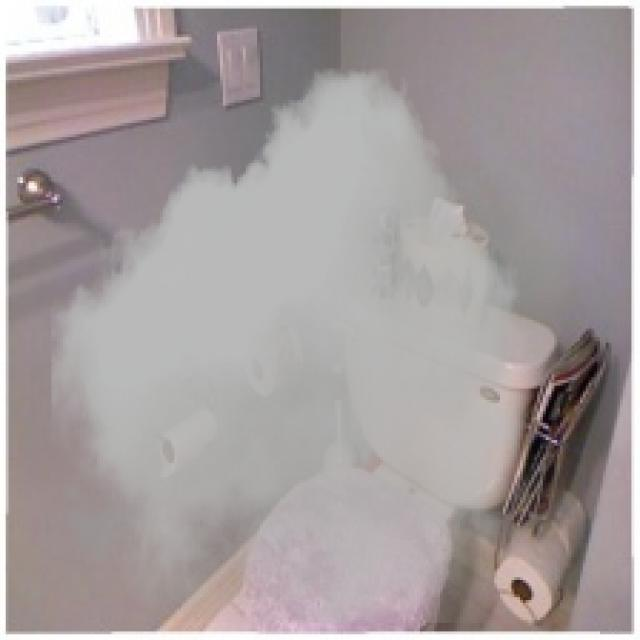smoke: (43, 68, 586, 623)
